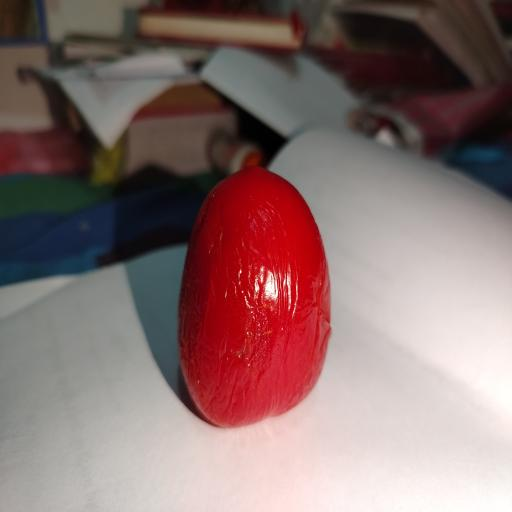spoiled: (178, 167, 330, 427)
